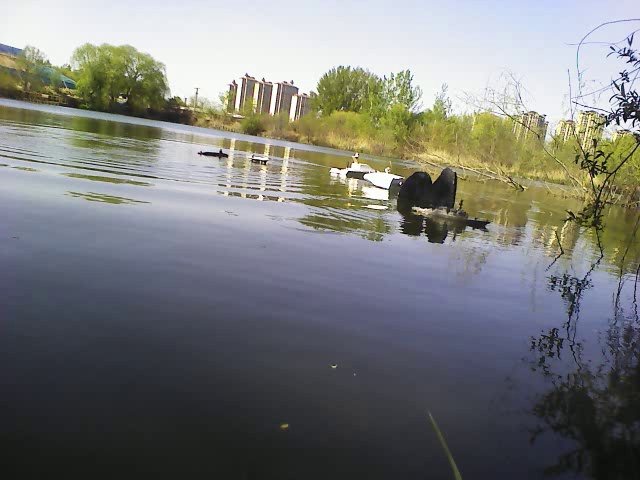boat: (330, 149, 376, 177)
iceberg: (359, 166, 404, 192)
rock: (392, 159, 460, 210)
submarine: (197, 143, 233, 161)
warship: (411, 196, 497, 232)
